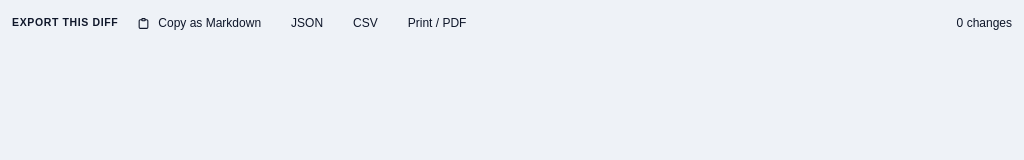
copying the diff › says the browser refused, rather than looking like nothing happened
Step 1. Click the button "Copy as Markdown" → coordinates (199, 23), box [126, 8, 272, 38]
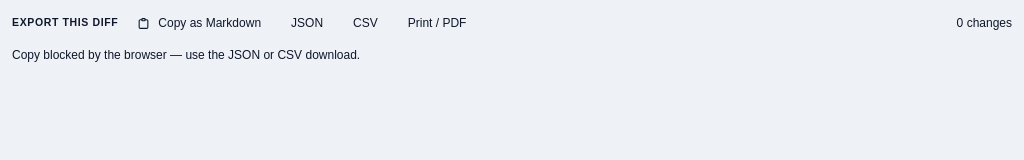
Check: the text with class "export-bar__error" reads "Copy blocked by the browser — use the JSON or CSV download.", box [12, 48, 360, 62]
